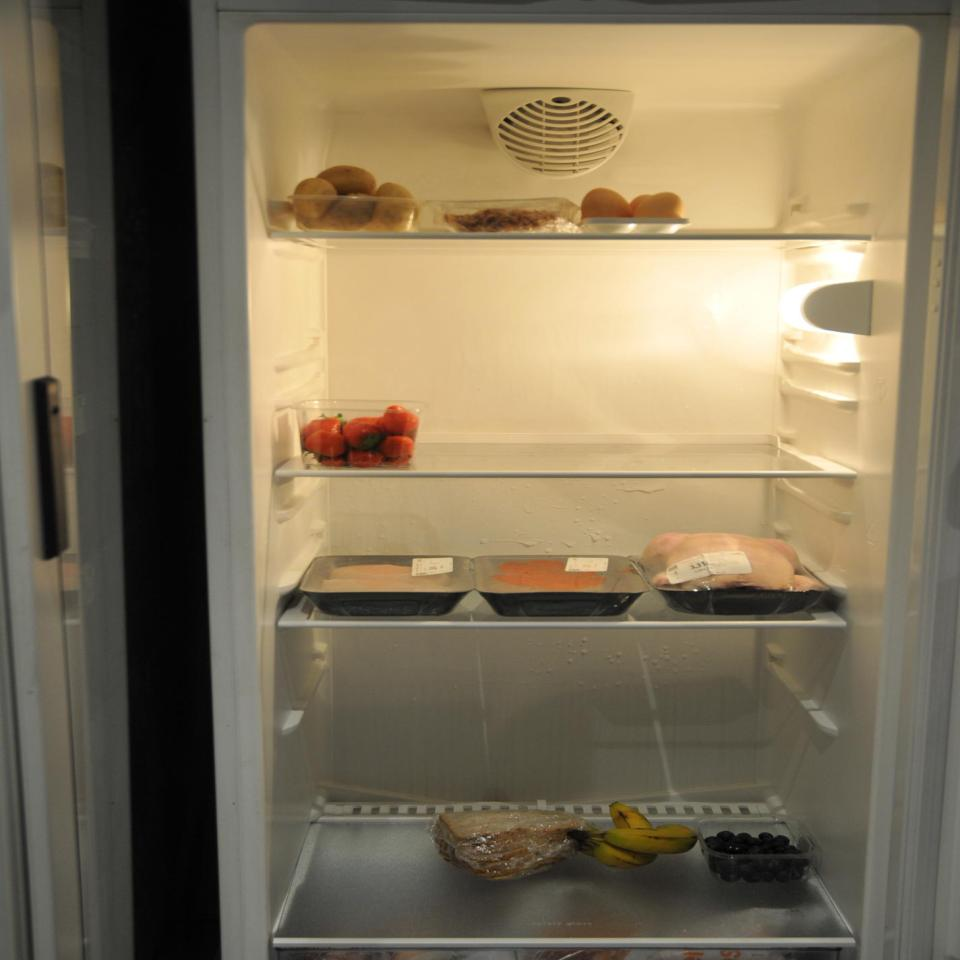Carne pollo: (644, 522, 840, 616), (298, 555, 476, 617)
Huevos: (575, 185, 694, 235)
Plátano: (570, 801, 706, 873)
